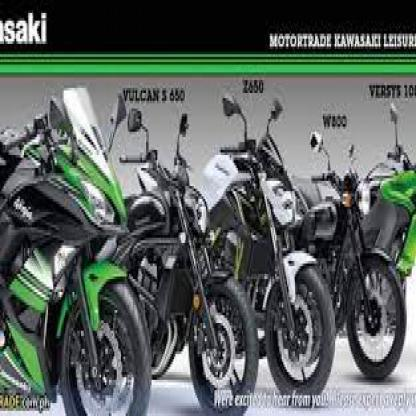Motorcycle: (0, 87, 151, 416), (124, 101, 259, 413), (217, 90, 342, 394), (299, 127, 411, 387)
